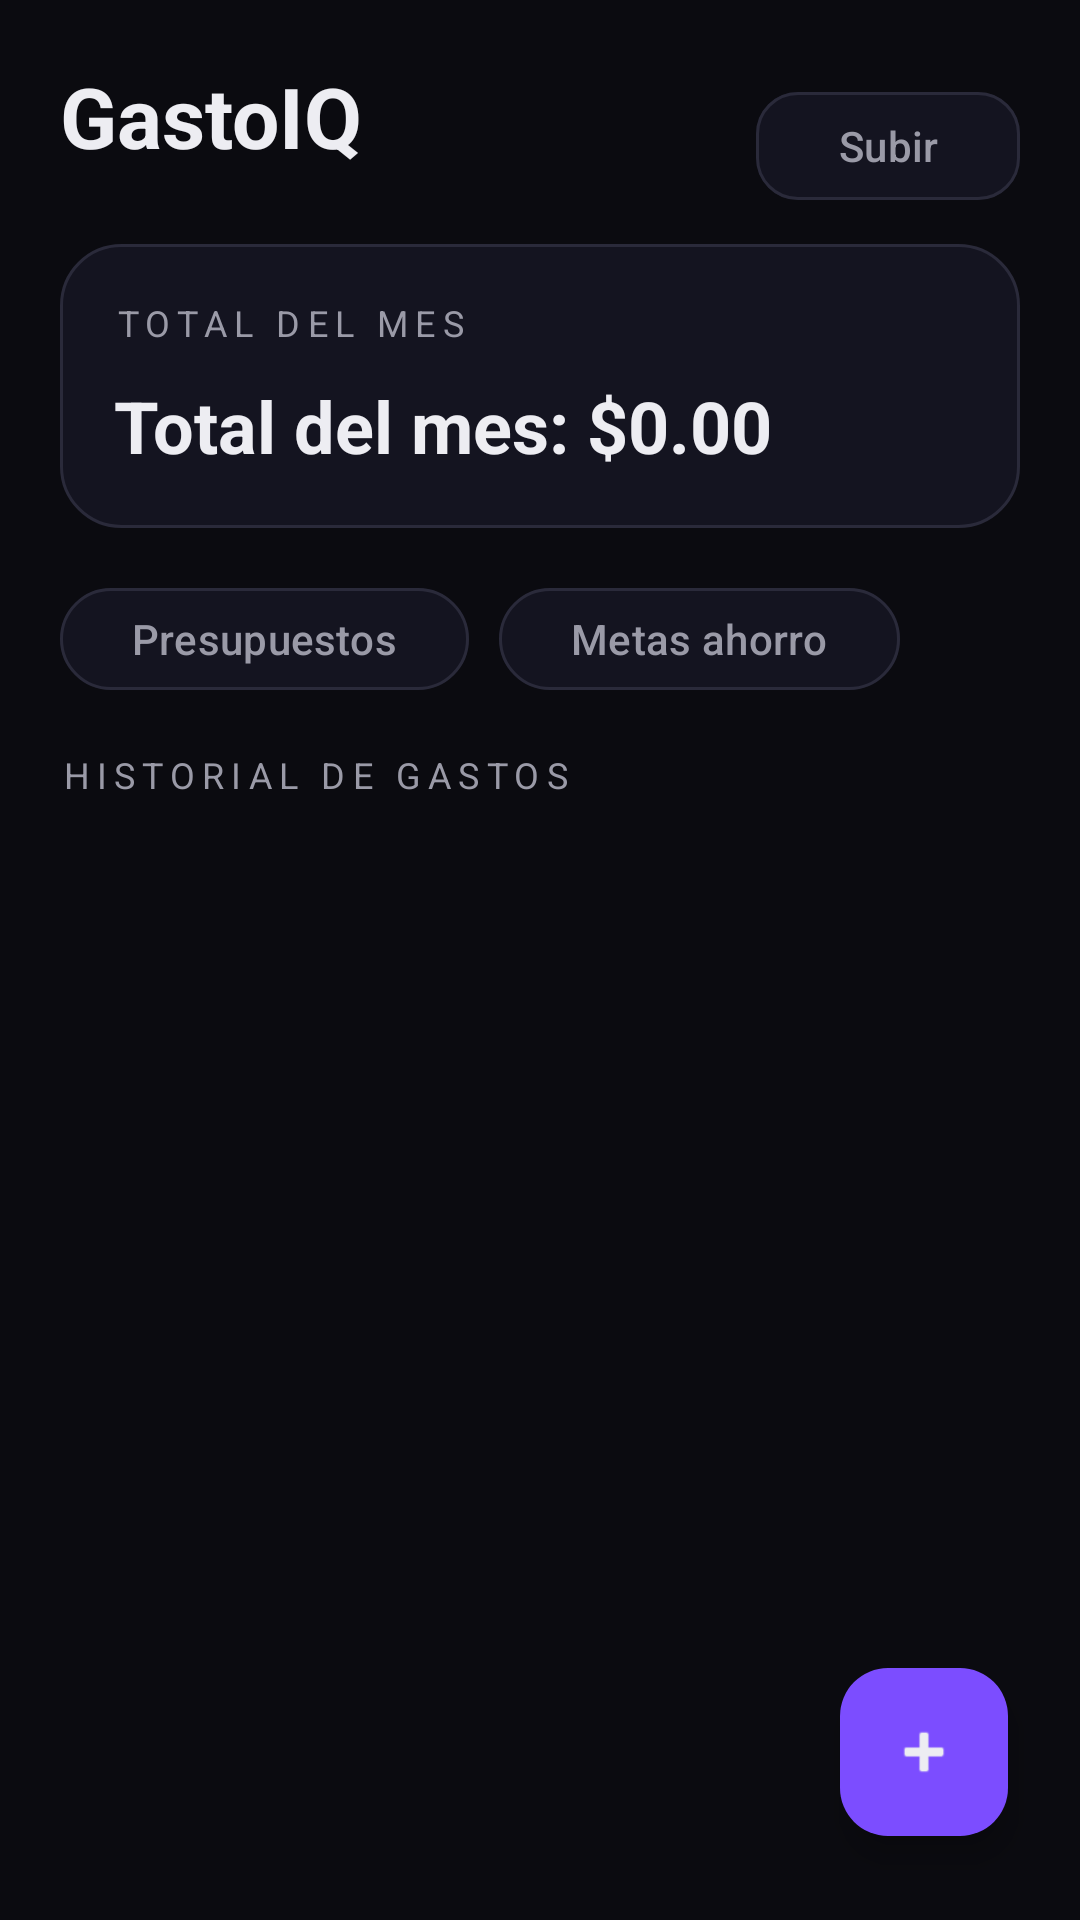

Named icons in this screenshot (1080*1920) and their bounding boxes, detection(x1, y1, x2, y2):
Agregar Gasto: detection(840, 1668, 1008, 1836)
